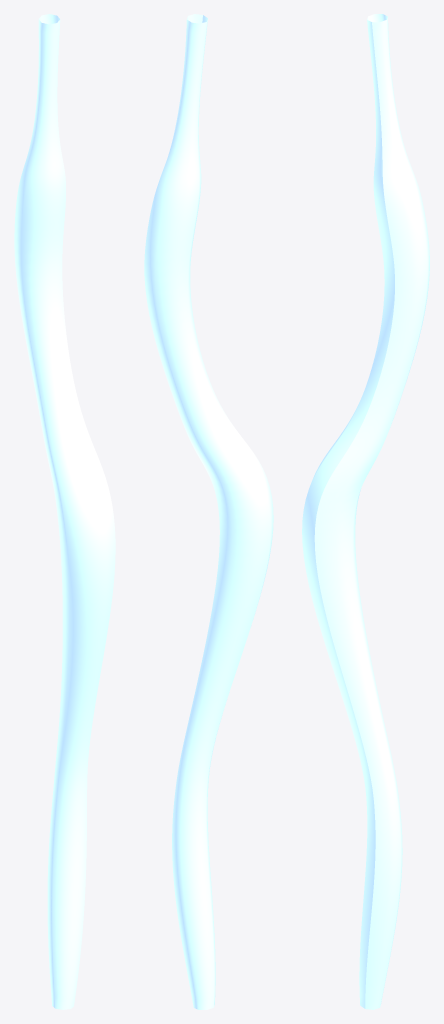
File: strand_a_scenic.glb
3 views of the same model, side by side, from view 1: azimuth 90°, elevation 25°; view 2: azimuth 150°, elevation 25°; view 3: azimuth 330°, elevation 25° (orthographic).
Bounding box in the file's own units: 0.8377 × 8.01 × 0.7436.
